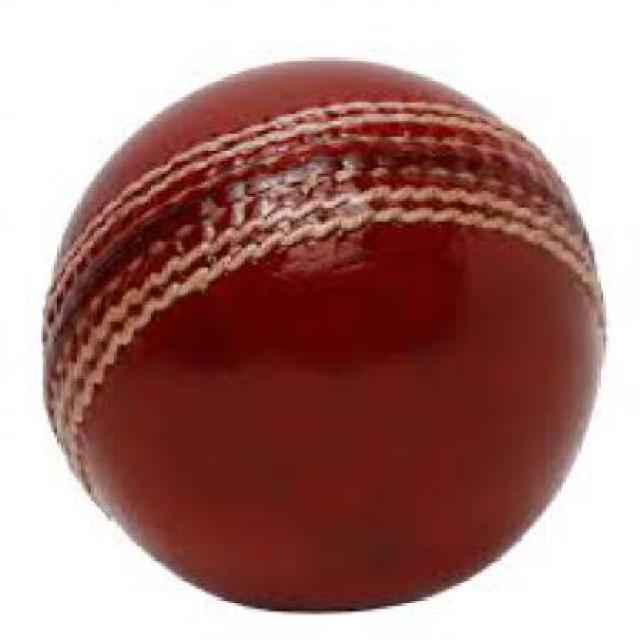ball: (16, 46, 640, 622)
